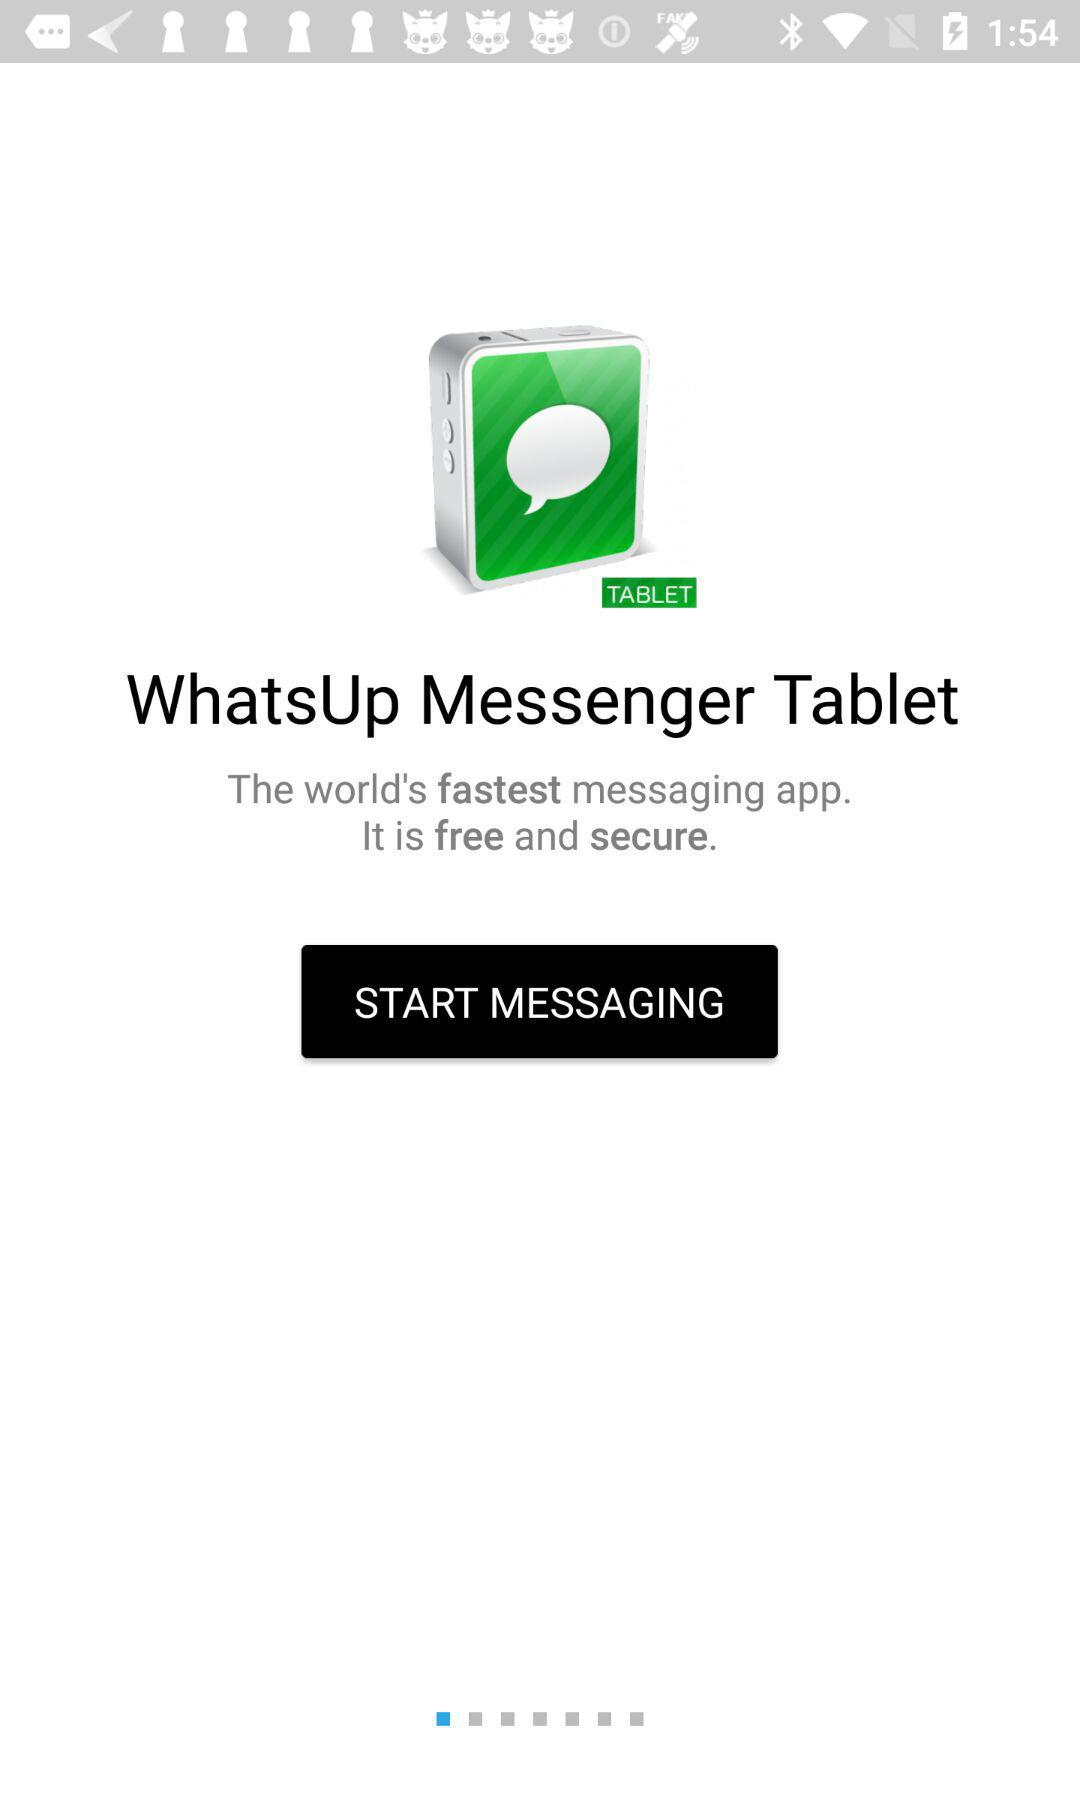Image: (421, 324, 697, 607)
PageIndicator: (436, 1709, 646, 1727)
Text: (126, 671, 962, 741), (225, 770, 852, 855)
TextButton: (301, 944, 779, 1058)
UpperTaskBar: (1, 1, 1080, 64)
